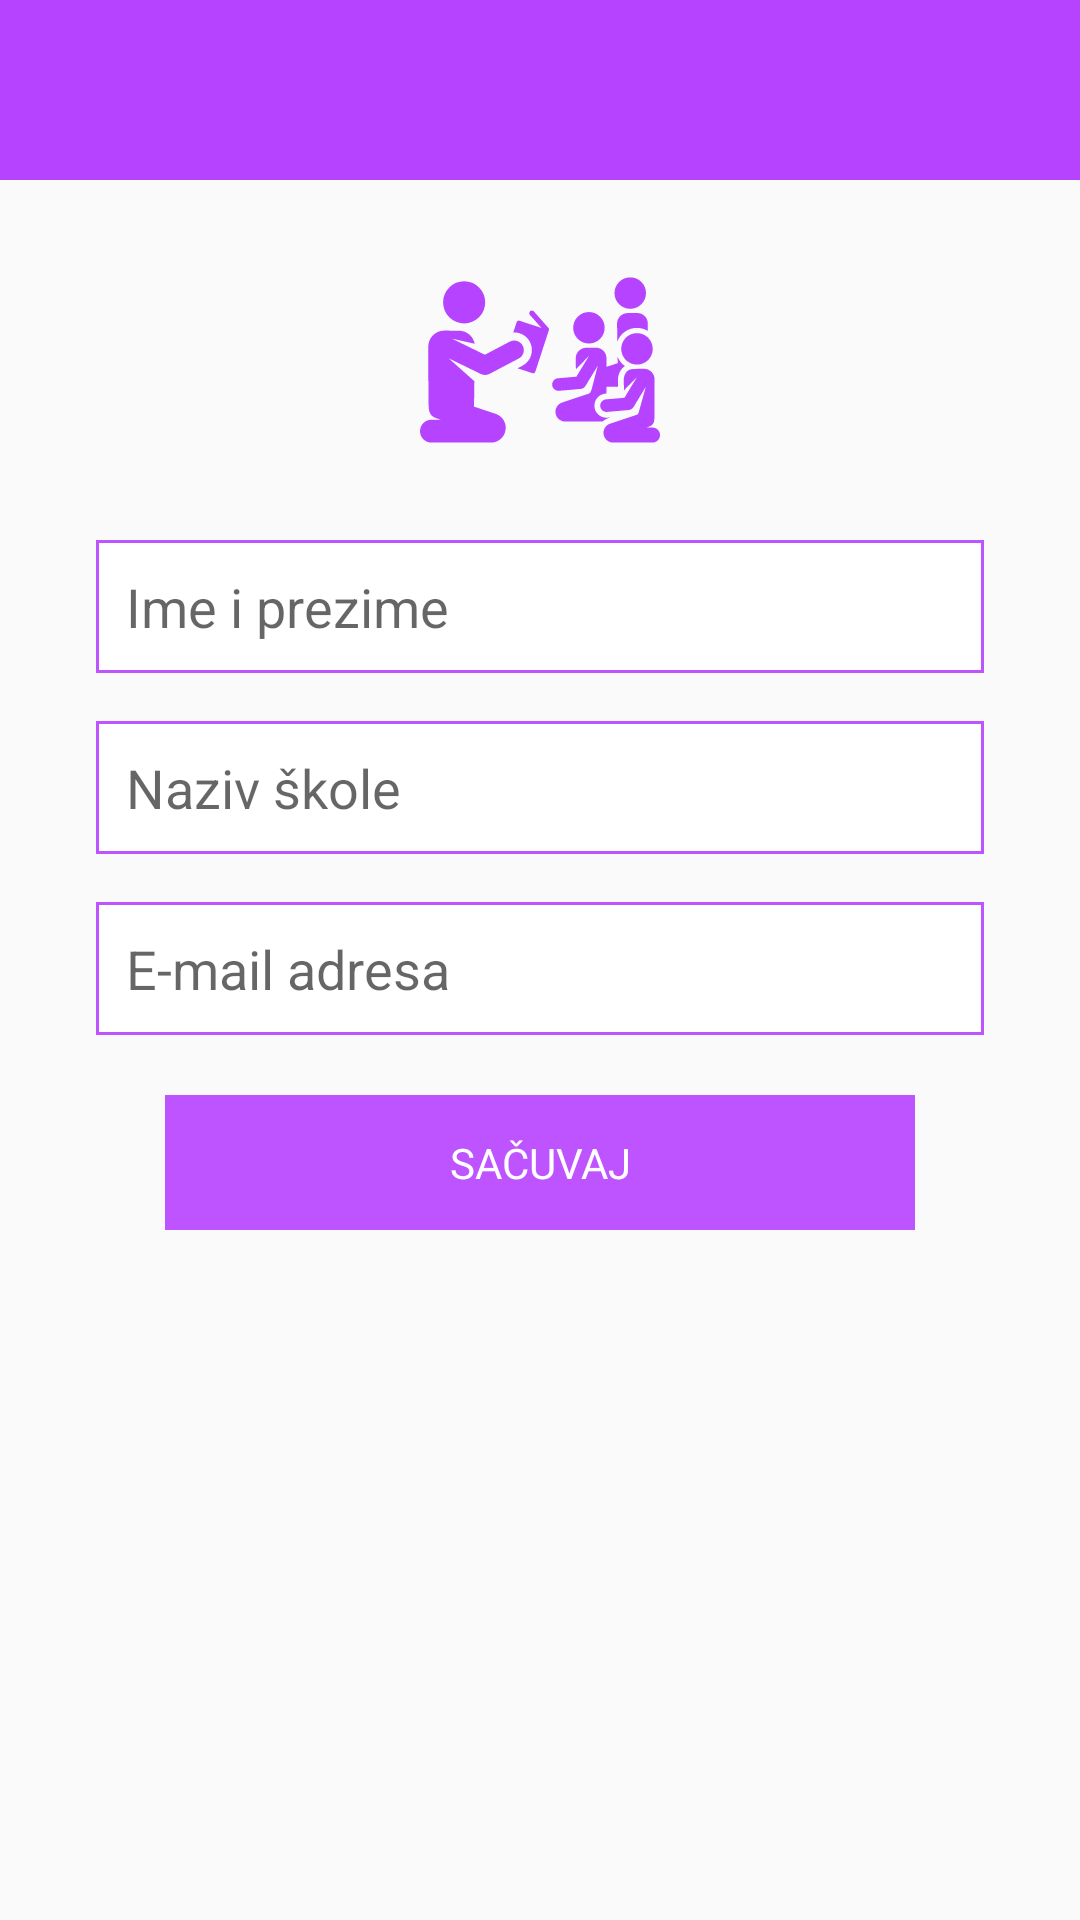

Named icons in this screenshot (1080 x 1920) and their bounding boxes, (x1, y1, x2, y2):
teaching: (420, 277, 660, 443)
